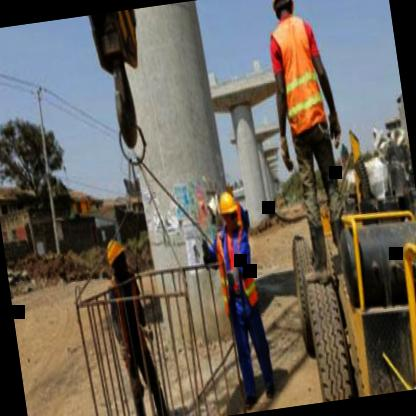helmet: (213, 185, 242, 237), (104, 233, 130, 280), (269, 0, 297, 25)
